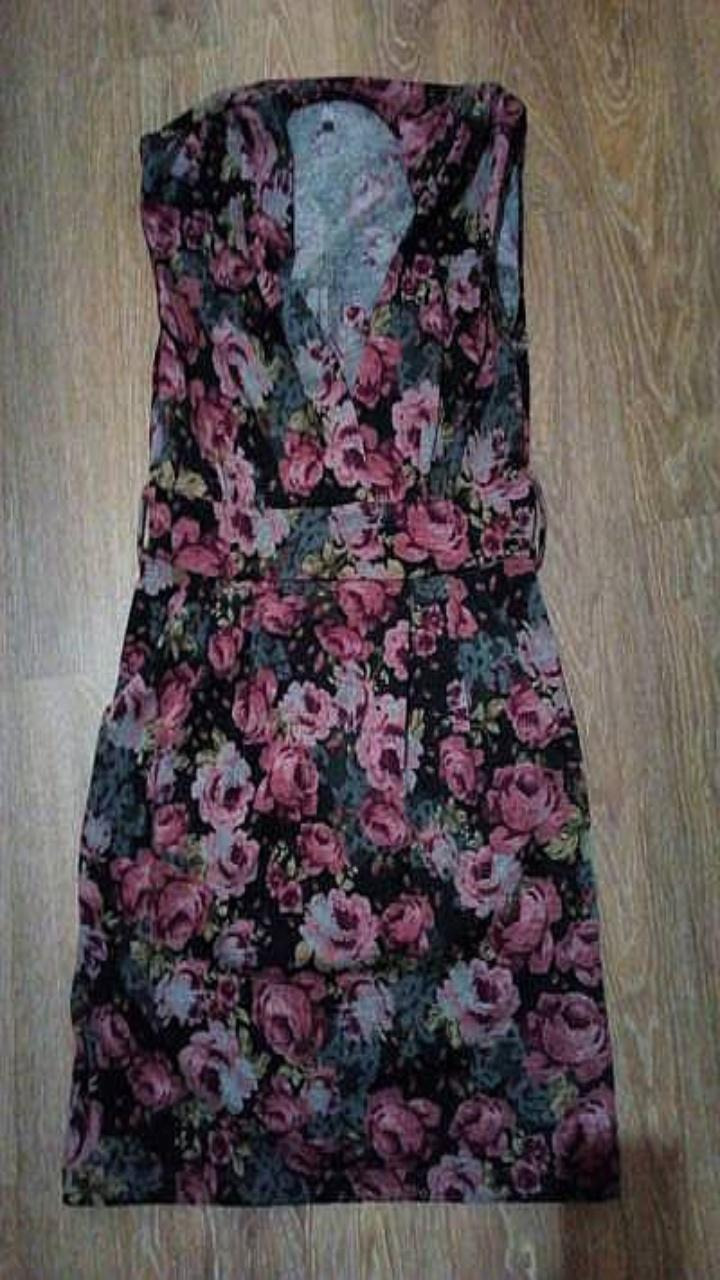Dresses: (63, 76, 618, 1204)
